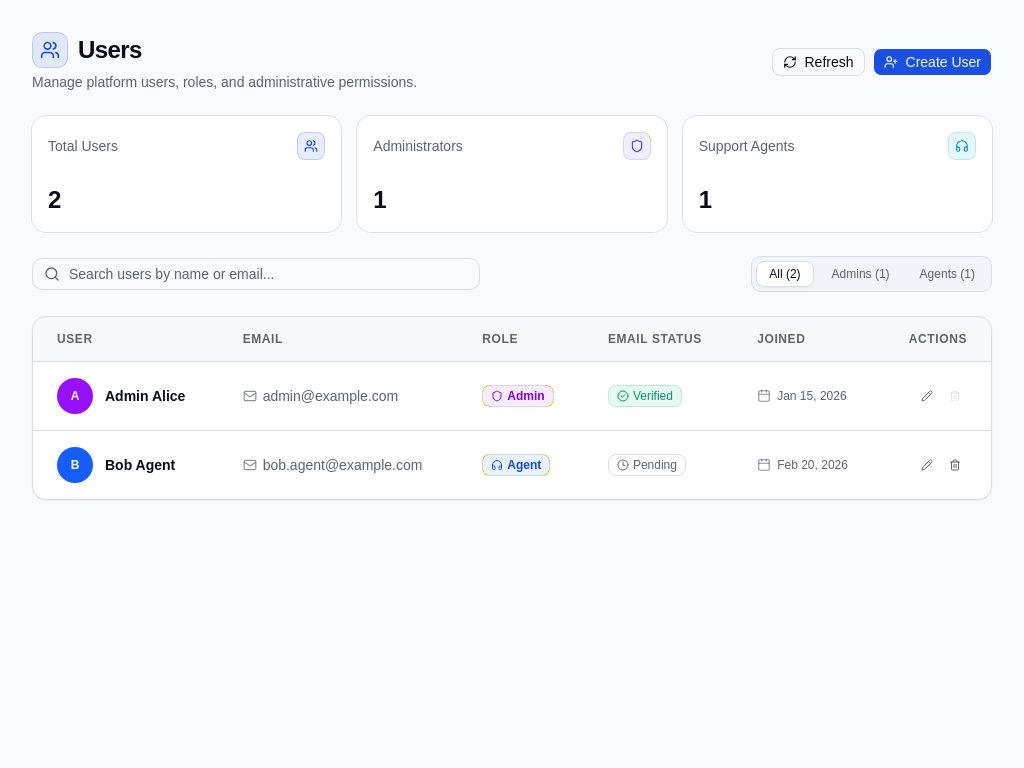
Test case: UsersPage Component › 8. Create User Modal & User Creation › submits valid form, issues POST /api/users, and closes modal
The width and height of the screenshot is (1024, 768).
Expected: the text "Admin Alice" is shown, [105, 388, 185, 404]
Click the button "Create User".
click(932, 62)  # box [872, 48, 992, 76]
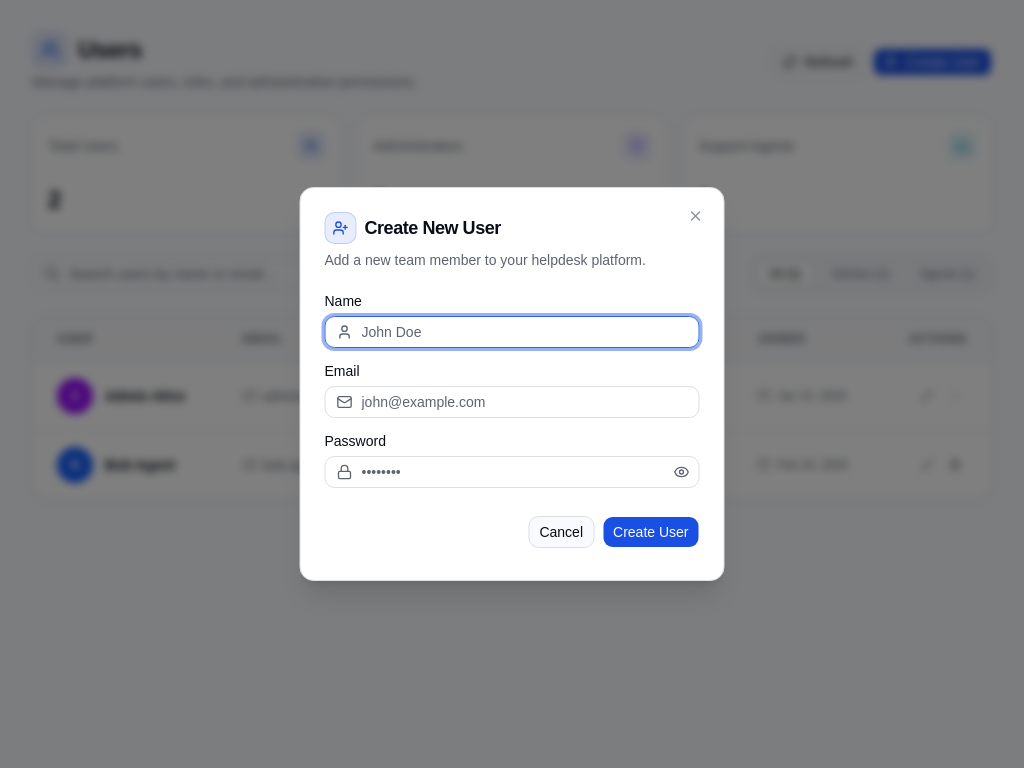
Type "Jane Agent" into the field labelled "Name".
click(512, 332); type("Jane Agent")  # box [324, 316, 700, 348]
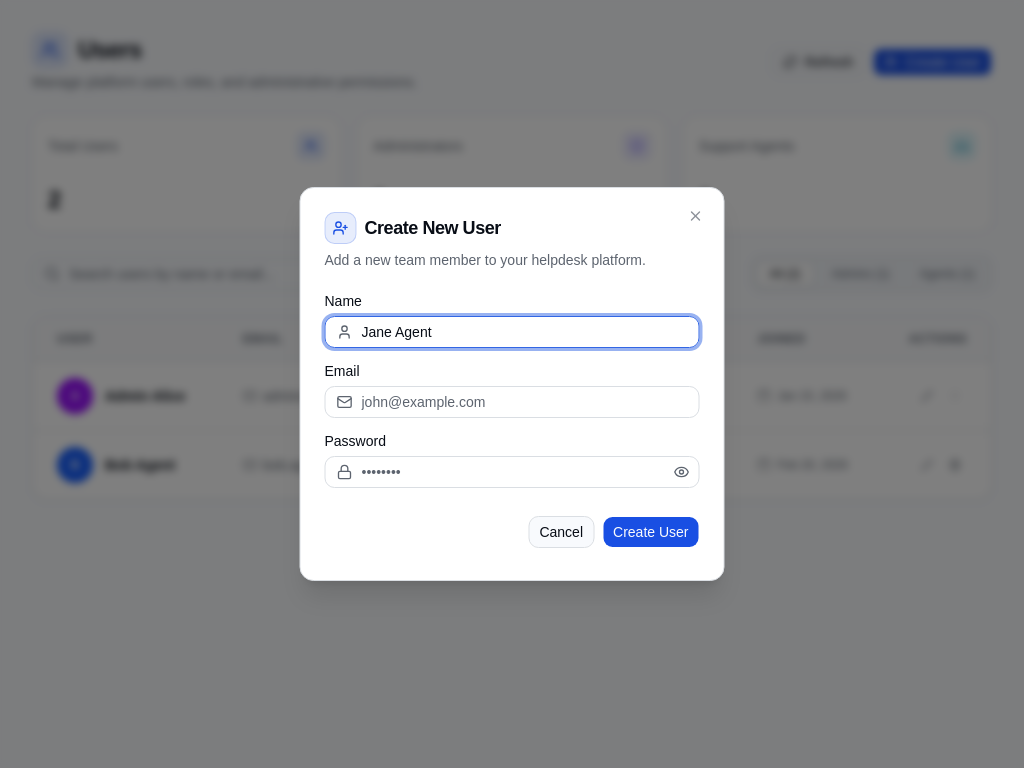
Type "jane.agent@example.com" into the field labelled "Email".
click(512, 402); type("jane.agent@example.com")  # box [324, 386, 700, 418]
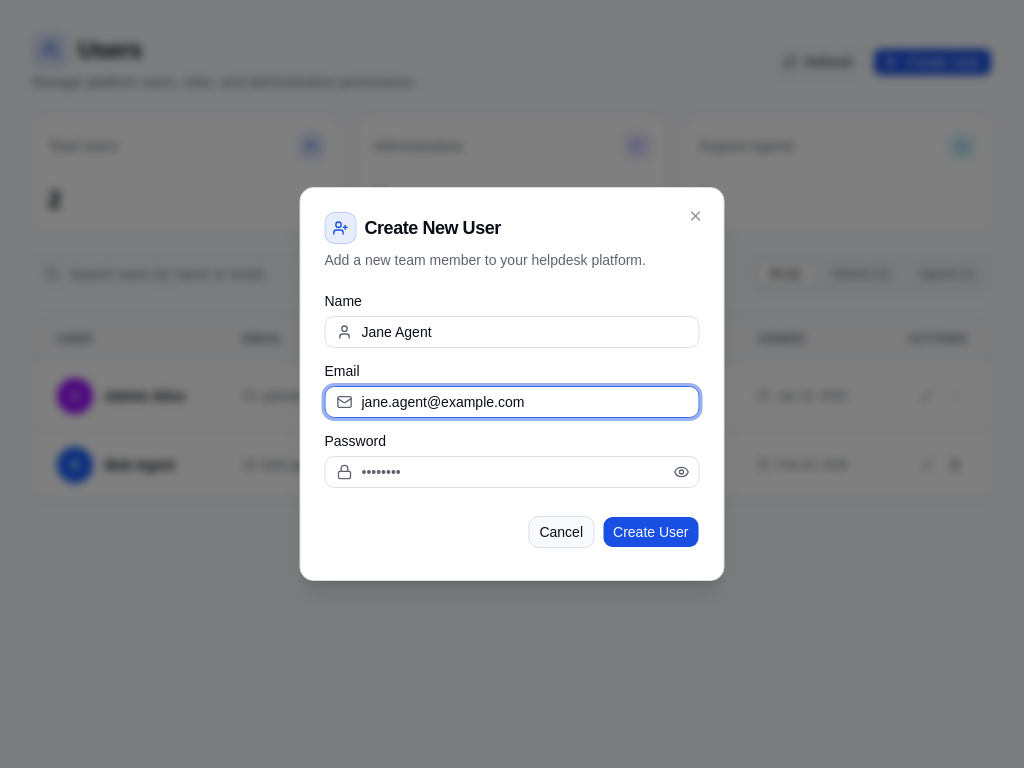
Type "password123" into the password field labelled "Password".
click(512, 472); type("password123")  # box [324, 456, 700, 488]
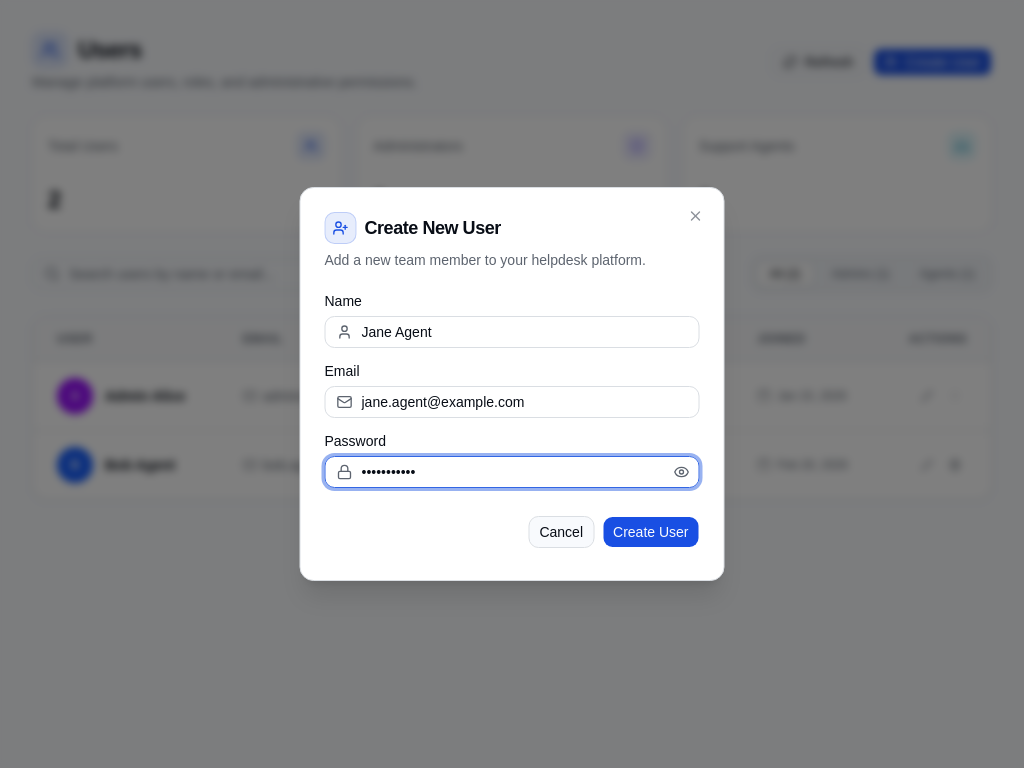
Click the button "Create User".
click(651, 532)  # box [602, 516, 700, 548]
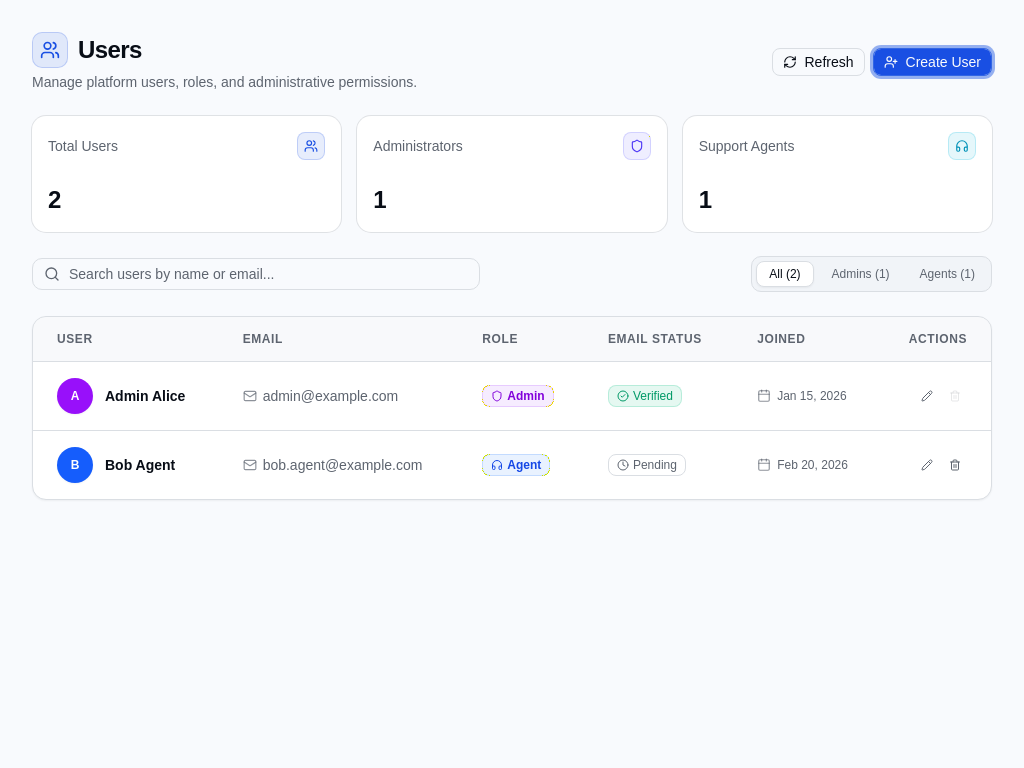
Now the heading "Create New User" is gone
